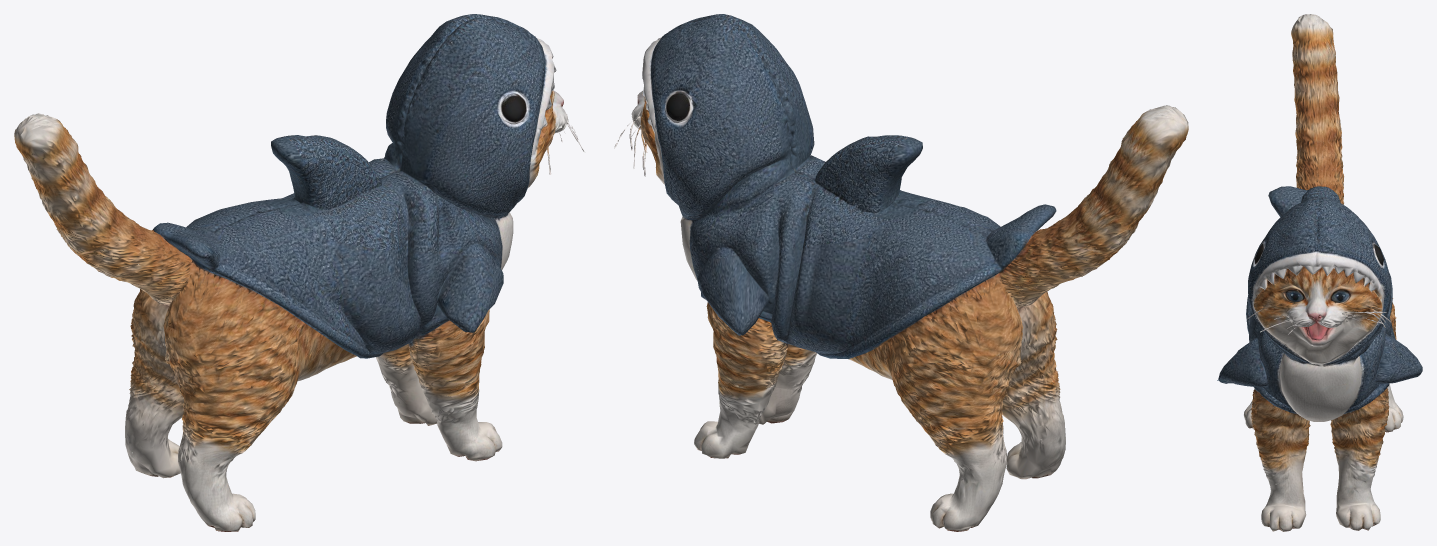
The model's file is SAMENYAN.glb.
3 renders of one model, left to right at view 1: azimuth 30°, elevation 25°; view 2: azimuth 150°, elevation 25°; view 3: azimuth 270°, elevation 25°, orthographic. The views are drawn at different scales.
Visible parts, largest first — view 1: tripo_node_b870f6d2-941d-435a-a956-18df1b6ae715; view 2: tripo_node_b870f6d2-941d-435a-a956-18df1b6ae715; view 3: tripo_node_b870f6d2-941d-435a-a956-18df1b6ae715.
Part boxes in pixels (<box>): tripo_node_b870f6d2-941d-435a-a956-18df1b6ae715: <box>14,14,585,531</box>; tripo_node_b870f6d2-941d-435a-a956-18df1b6ae715: <box>614,14,1188,531</box>; tripo_node_b870f6d2-941d-435a-a956-18df1b6ae715: <box>1217,14,1422,531</box>.
Bounding box in the file's own units: 1.34 × 0.9978 × 0.5391.
Materials: 1 (1 with a texture image).
